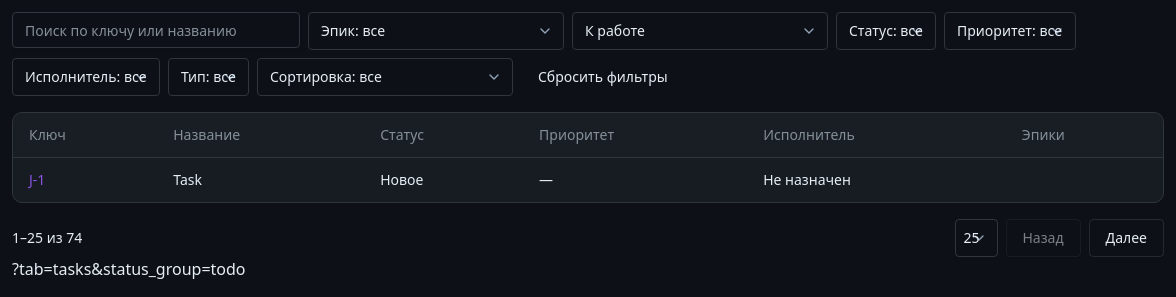
Release insight navigation › keeps 74 tasks reachable and preserves group filter in pagination URL
Expected: the text "1–25 из 74" is shown, [12,228,82,248]
Click the button "Далее" at (1126, 238), box [1089,219,1164,257]
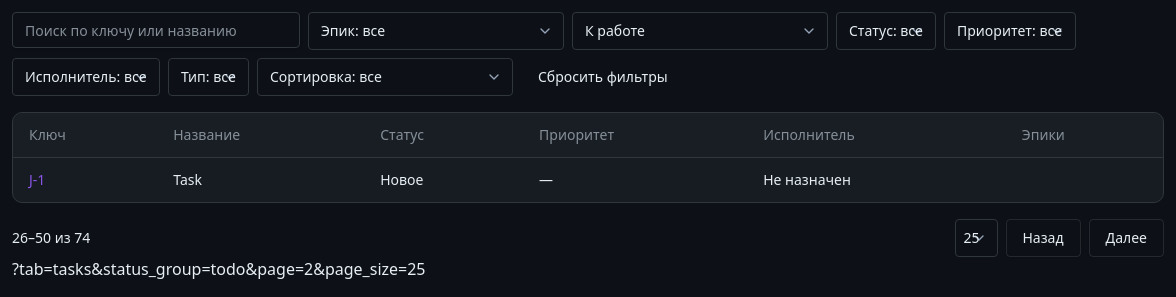
Expected: the text with test id "url" shows "status_group=todo", [12,258,426,280]
Now the text with test id "url" shows "page=2", box [12,258,426,280]
Select "Завершено" in the dropdown named "Группа" at (700, 31), box [572,12,828,50]
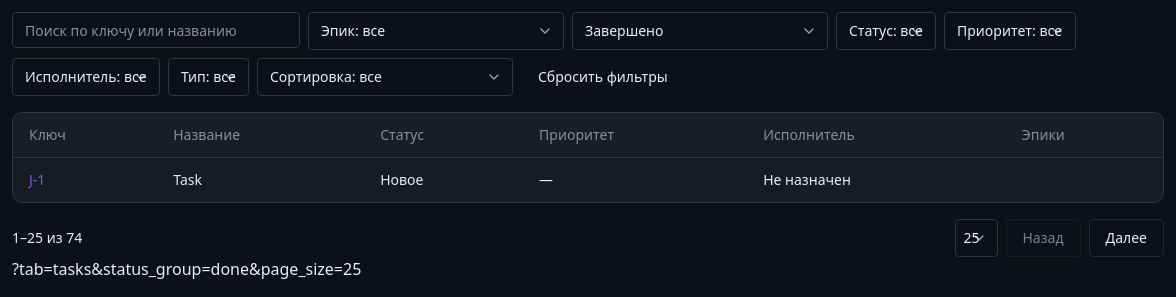
Now the text with test id "url" shows "status_group=done", box [12,258,361,280]
Now the text with test id "url" no longer shows "page=2", box [12,258,361,280]
